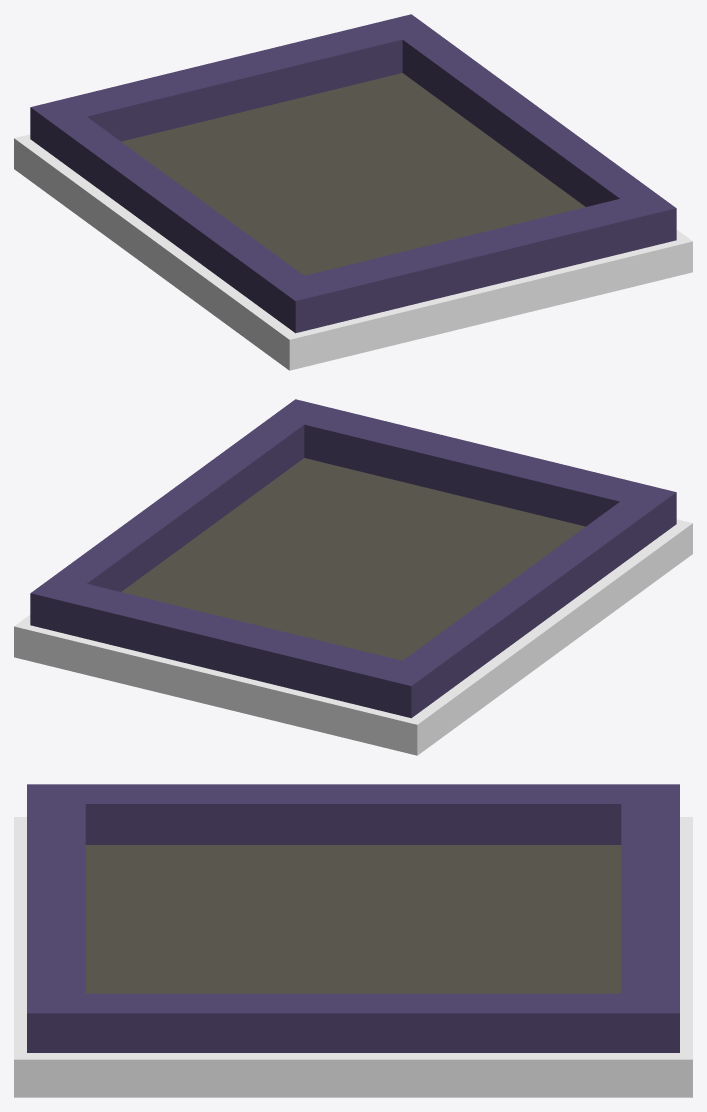
The model's file is CityBuildingA_03_roof.fbx.
3 views of the same model, one above another, from view 1: azimuth 30°, elevation 25°; view 2: azimuth 150°, elevation 25°; view 3: azimuth 270°, elevation 25° (orthographic). The views are drawn at different scales.
Visible parts, largest first — view 1: CityBuildingA_03_roof; view 2: CityBuildingA_03_roof; view 3: CityBuildingA_03_roof.
Boxes of the visible parts, x1,y1,x2,y2 form: CityBuildingA_03_roof: [14, 14, 692, 370]; CityBuildingA_03_roof: [14, 399, 692, 755]; CityBuildingA_03_roof: [14, 784, 692, 1097].
Size of the model in its own units: 0.4778 by 0.0713 by 0.5653.
